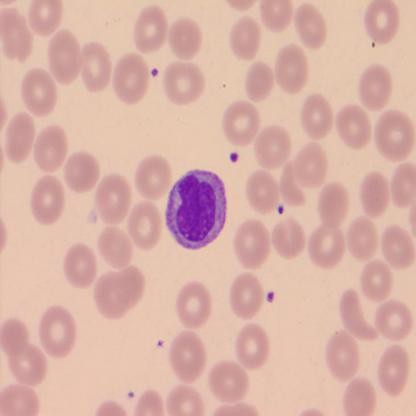Monocyte: (164, 166, 227, 252)
